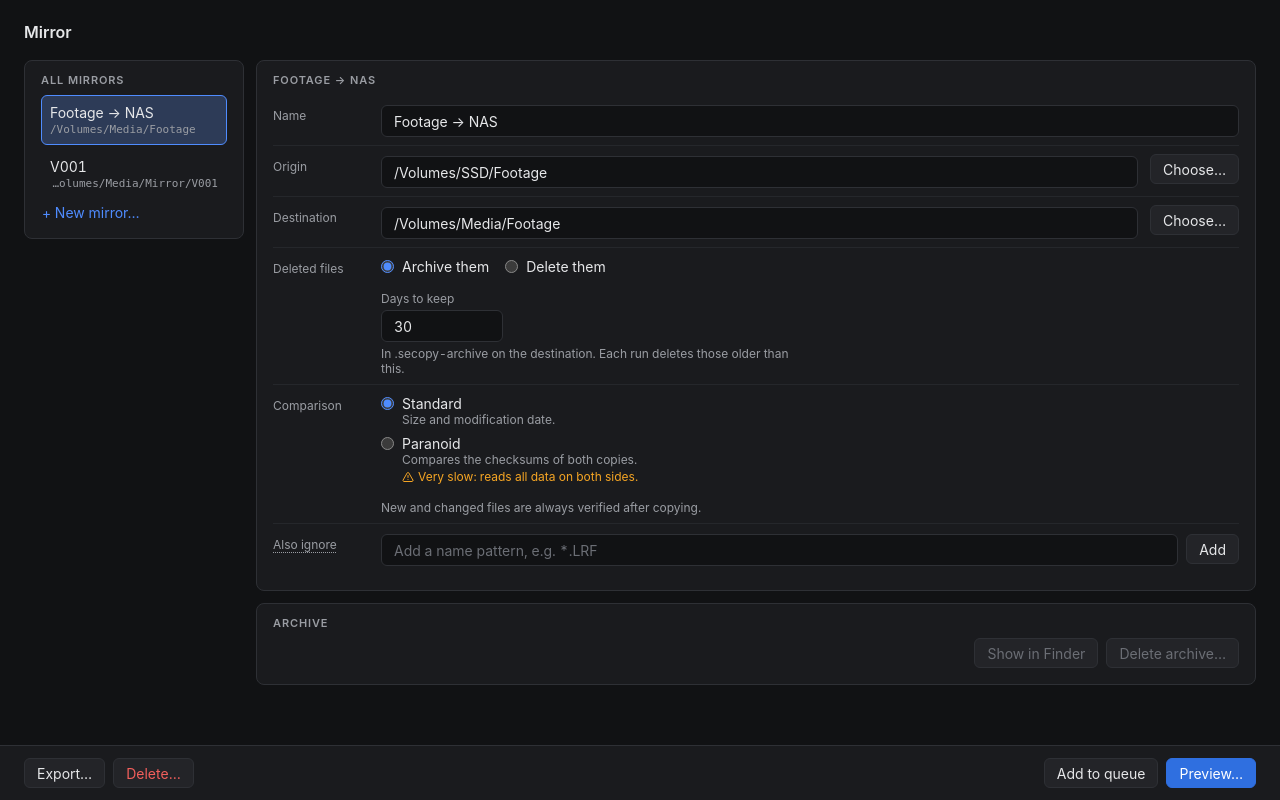
Test: MirrorScreen › a mirror's error isn't shown on the next mirror (#199)
What coordinates should you click on to do the following:
click the button "Preview…"
I would click on:
 (1211, 773)
Its box is [1166, 758, 1256, 788].
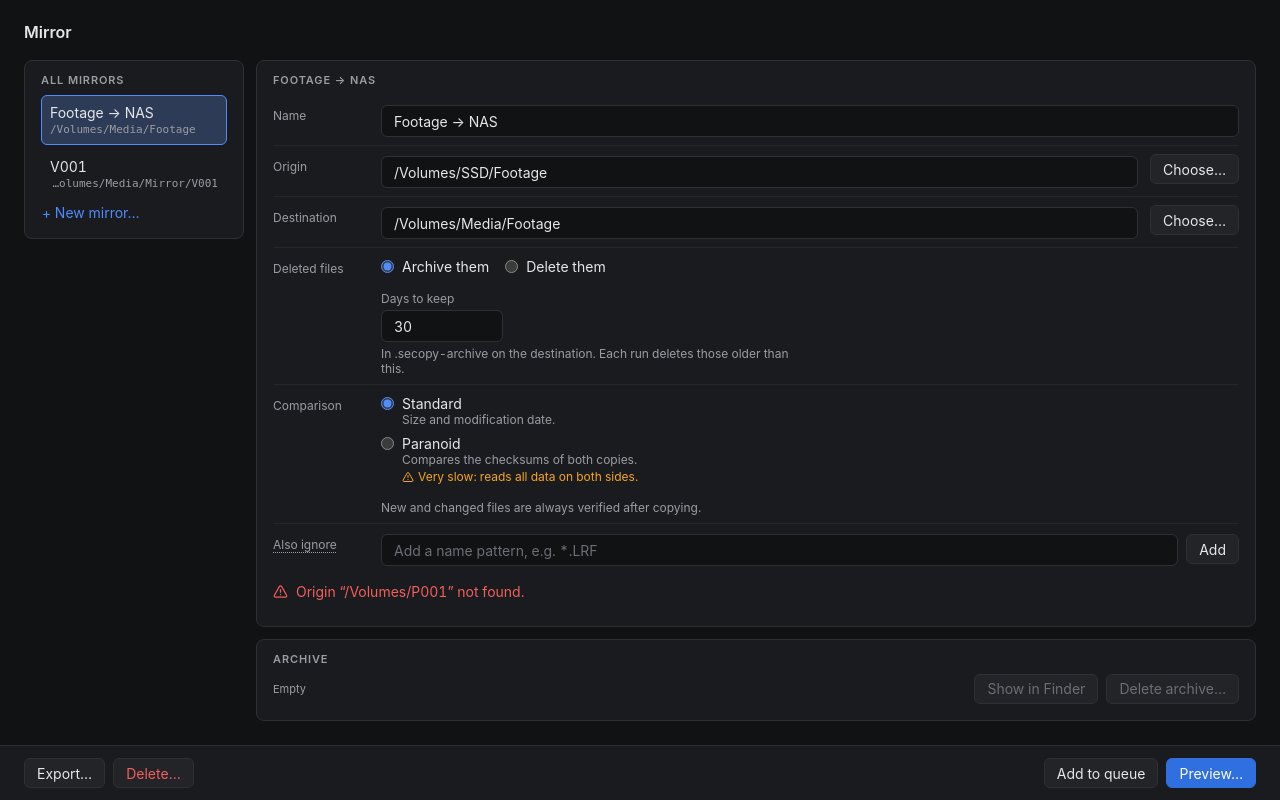
Check: the text "Origin “/Volumes/P001” not found." is shown, box [296, 582, 524, 602]
What coordinates should you click on to do the following:
click the button "V001 /Volumes/Media/Mirror/V001"
I would click on:
 (134, 174)
Its box is [41, 149, 227, 199].
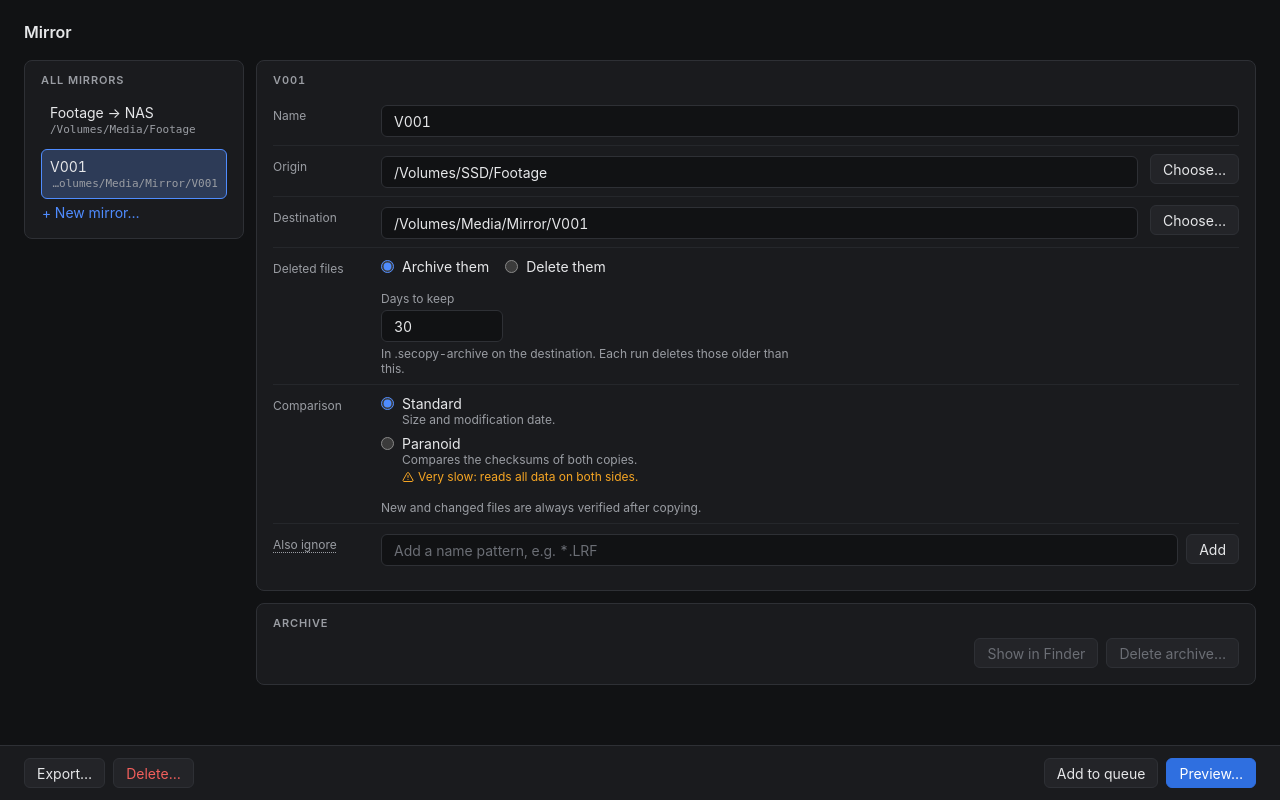
Check: the heading "V001" is shown, box [273, 73, 306, 87]
Check: the text "Origin “/Volumes/P001” not found." is gone
